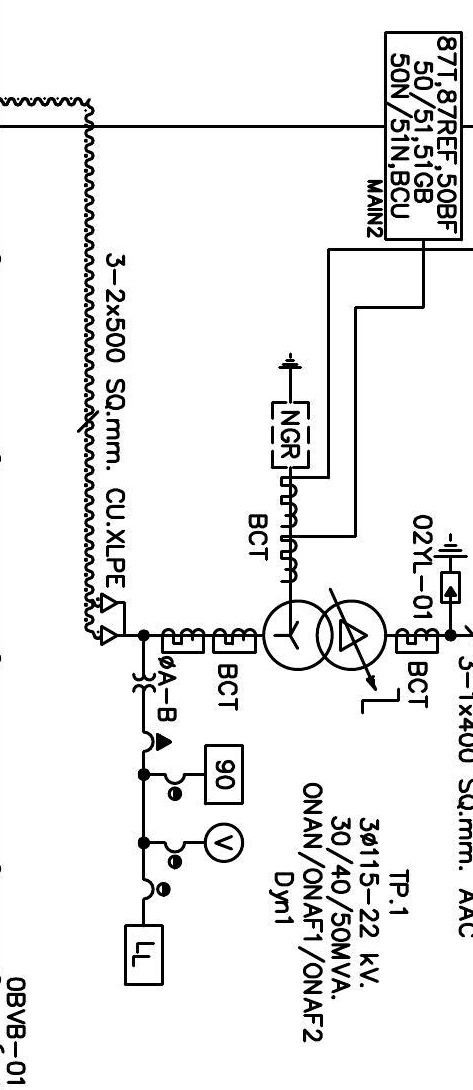11522_tx_dyn1: (261, 599, 388, 672)
115_la: (432, 532, 469, 605)
LL: (123, 923, 165, 987)
NGR_future: (270, 352, 311, 470)
terminator_double: (100, 592, 127, 646)
v_m: (203, 821, 245, 864)
